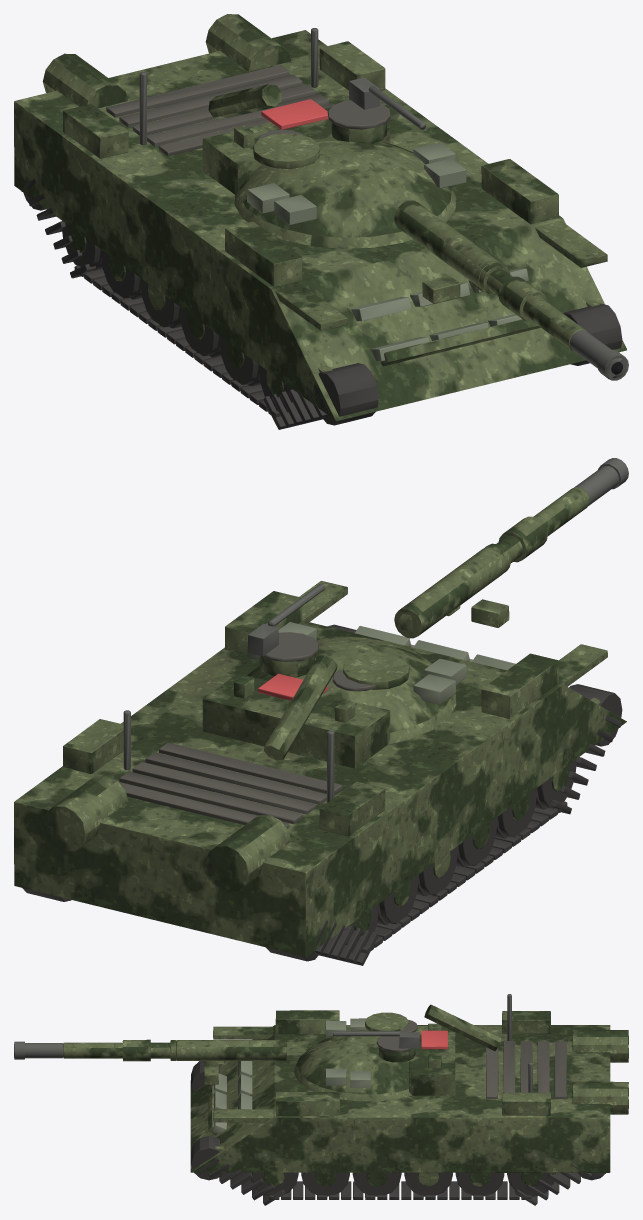
Rendered from mbt_e4_ru_t72_LOD1.glb.
3 renders of one model, top to bottom at view 1: azimuth 30°, elevation 25°; view 2: azimuth 150°, elevation 25°; view 3: azimuth 270°, elevation 25°, orthographic. The views are drawn at different scales.
Visible parts, largest first — view 1: mbt_e4_ru_t72_LOD1_body, mbt_e4_ru_t72_LOD1_track, mbt_e4_ru_t72_LOD1_deck, mbt_e4_ru_t72_LOD1_era, mbt_e4_ru_t72_LOD1_gun, mbt_e4_ru_t72_LOD1_team; view 2: mbt_e4_ru_t72_LOD1_body, mbt_e4_ru_t72_LOD1_deck, mbt_e4_ru_t72_LOD1_track, mbt_e4_ru_t72_LOD1_gun, mbt_e4_ru_t72_LOD1_era, mbt_e4_ru_t72_LOD1_team; view 3: mbt_e4_ru_t72_LOD1_body, mbt_e4_ru_t72_LOD1_track, mbt_e4_ru_t72_LOD1_deck, mbt_e4_ru_t72_LOD1_era, mbt_e4_ru_t72_LOD1_gun, mbt_e4_ru_t72_LOD1_team.
Part boxes in pixels (x1,y1,x2,y2): mbt_e4_ru_t72_LOD1_body: (14, 14, 626, 420); mbt_e4_ru_t72_LOD1_track: (21, 179, 622, 429); mbt_e4_ru_t72_LOD1_deck: (106, 65, 390, 155); mbt_e4_ru_t72_LOD1_era: (247, 142, 528, 361); mbt_e4_ru_t72_LOD1_gun: (139, 28, 628, 380); mbt_e4_ru_t72_LOD1_team: (261, 99, 328, 129); mbt_e4_ru_t72_LOD1_body: (14, 487, 626, 956); mbt_e4_ru_t72_LOD1_deck: (119, 632, 374, 828); mbt_e4_ru_t72_LOD1_track: (22, 624, 622, 965); mbt_e4_ru_t72_LOD1_gun: (123, 458, 628, 802); mbt_e4_ru_t72_LOD1_era: (247, 622, 515, 704); mbt_e4_ru_t72_LOD1_team: (258, 673, 327, 700); mbt_e4_ru_t72_LOD1_body: (63, 1004, 628, 1186); mbt_e4_ru_t72_LOD1_track: (191, 1061, 605, 1205); mbt_e4_ru_t72_LOD1_deck: (376, 1020, 566, 1098); mbt_e4_ru_t72_LOD1_era: (212, 1018, 370, 1133); mbt_e4_ru_t72_LOD1_gun: (14, 994, 532, 1092); mbt_e4_ru_t72_LOD1_team: (421, 1030, 447, 1049).
Bounding box in the file's own units: 3.59 × 2.63 × 10.03.
7 materials, 1 textured.
